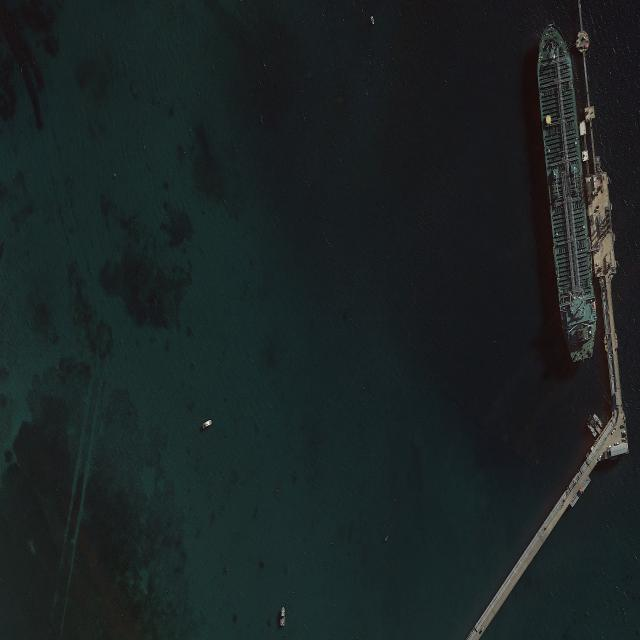ship: (536, 22, 598, 365), (280, 606, 286, 626), (202, 419, 212, 430), (370, 16, 374, 25)
